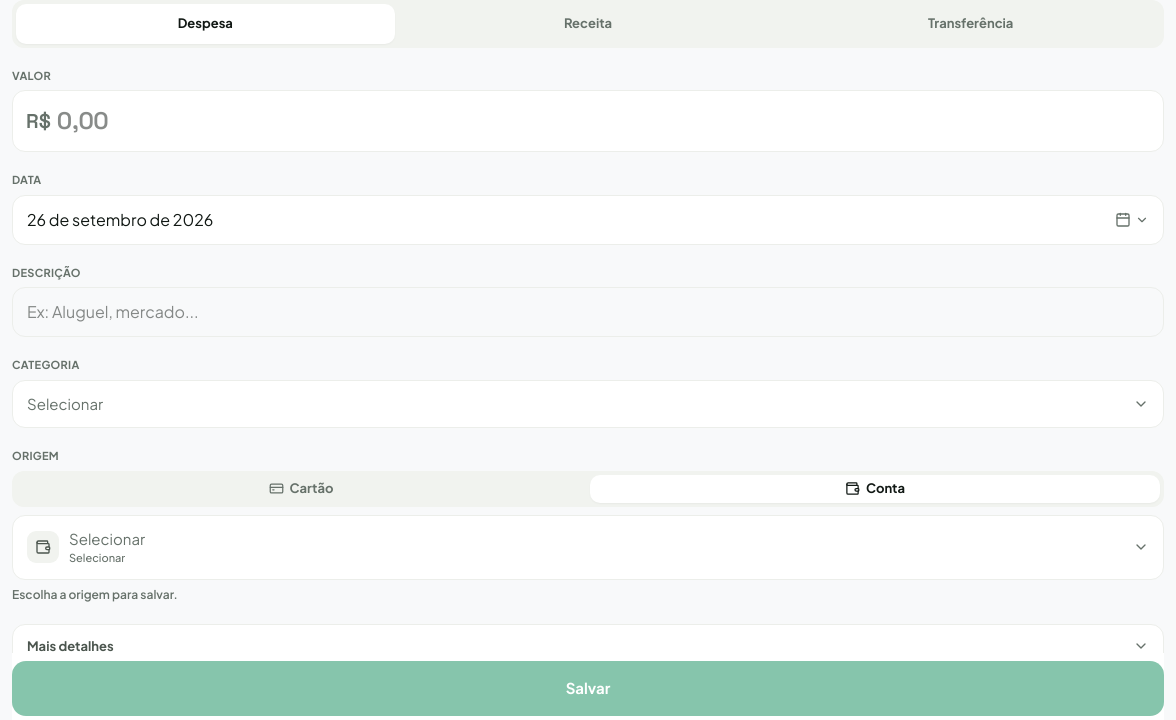
Test: NewTransactionSheet › switches to transfer tab and shows from/to fields
The width and height of the screenshot is (1176, 720).
Click the button "Transferência" at (971, 24), box [781,4,1160,44]
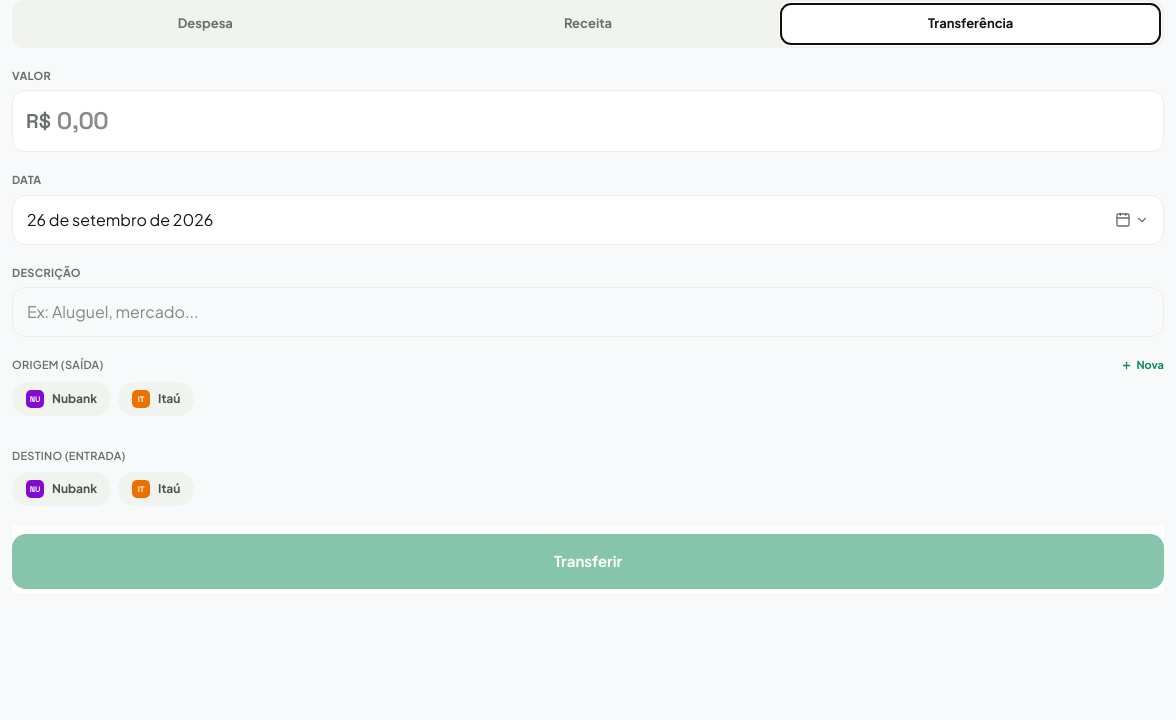
Now the text "Origem (saída)" is shown, box [12,357,104,374]
Now the text "Destino (entrada)" is shown, box [12,448,126,464]
